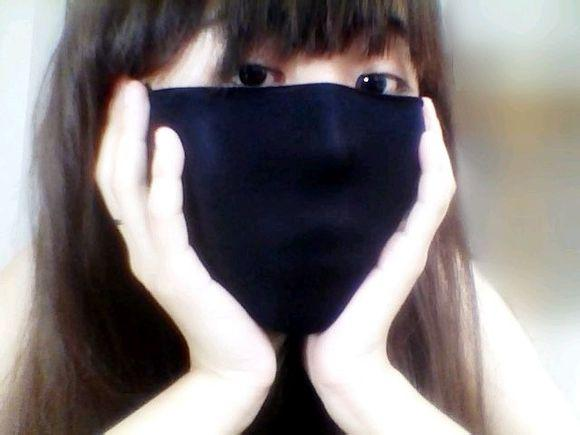OK: (137, 18, 441, 322)
